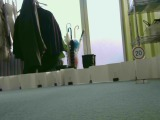speed_20: (131, 46, 145, 60)
